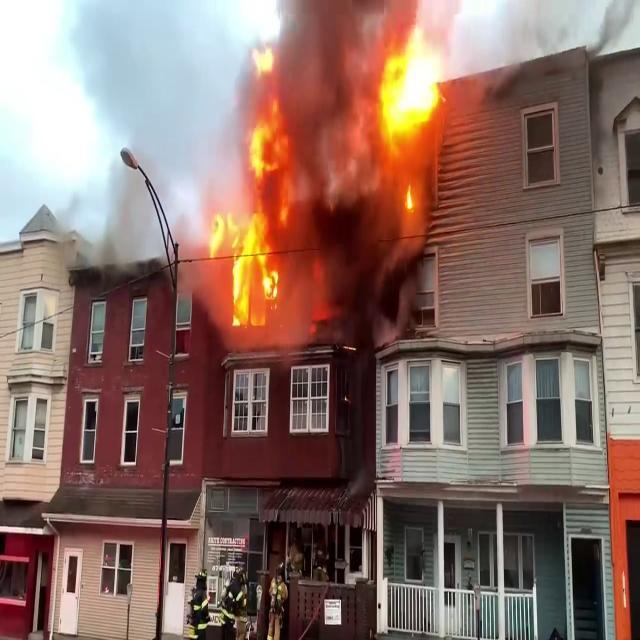Fire: (201, 80, 303, 337), (376, 15, 450, 149)
Smoke: (273, 0, 413, 331)
